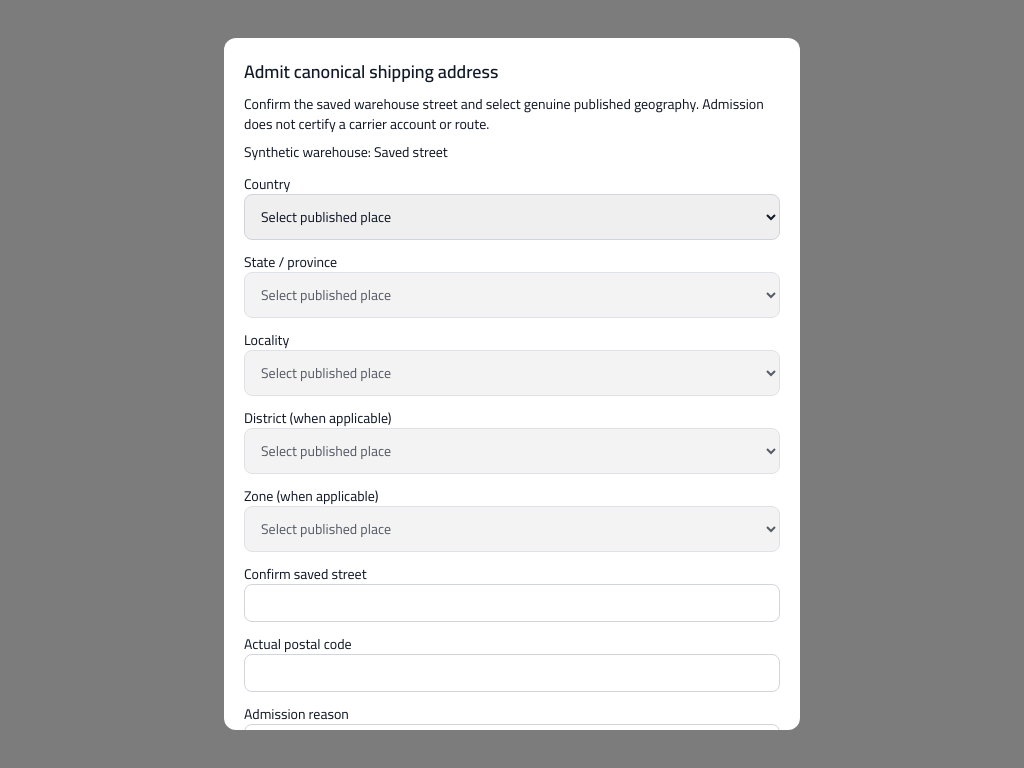
Test: submits genuine selected warehouse identities and preserves failed input in en
Select "US — United States" in the dropdown labelled "Country" at {"x": 512, "y": 217}, box top-left (244, 194), bottom-right (780, 240)
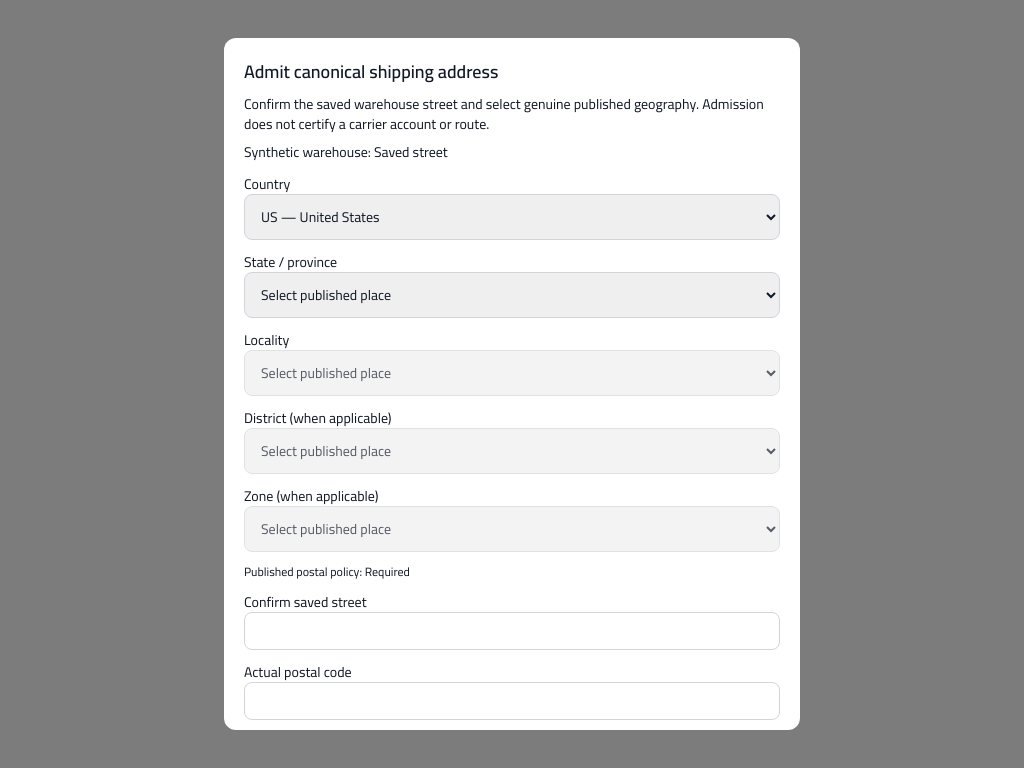
Select "NY — New York" in the dropdown labelled "State / province" at {"x": 512, "y": 295}, box top-left (244, 272), bottom-right (780, 318)
Select "NYC — New York City" in the dropdown labelled "Locality" at {"x": 512, "y": 373}, box top-left (244, 350), bottom-right (780, 396)
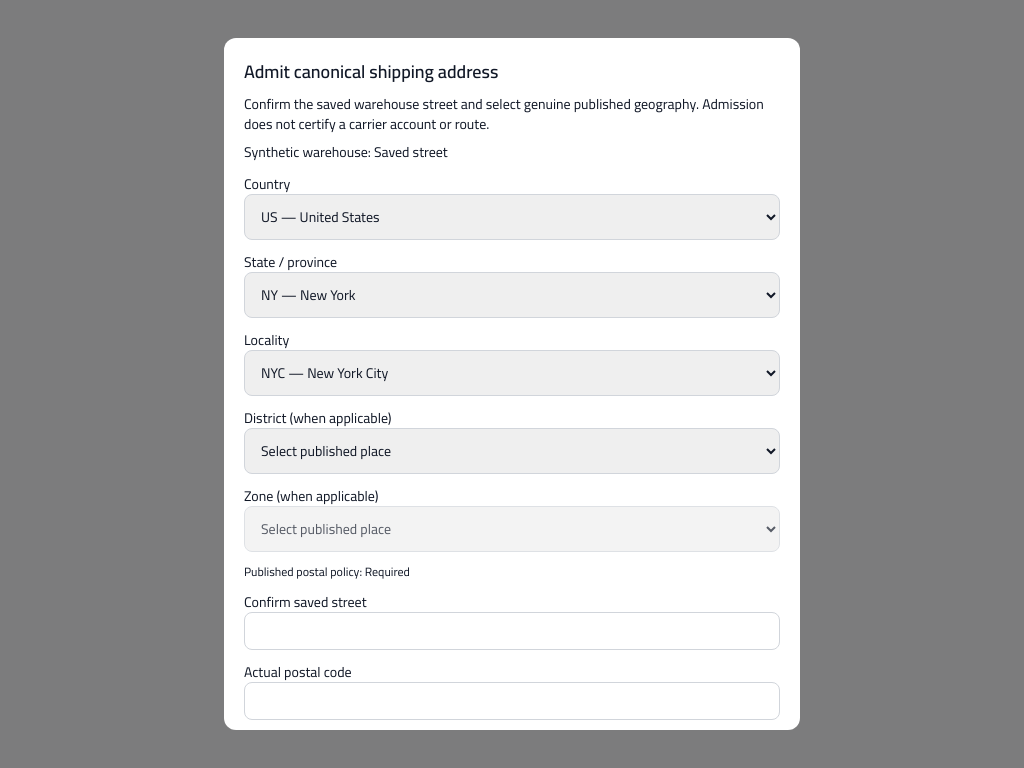
Type "Saved street" into the field labelled "Confirm saved street".
click(512, 631); type("Saved street")  # box top-left (244, 612), bottom-right (780, 650)
Type "10001" into the field labelled "Actual postal code".
click(512, 701); type("10001")  # box top-left (244, 682), bottom-right (780, 720)
(page scrolled)
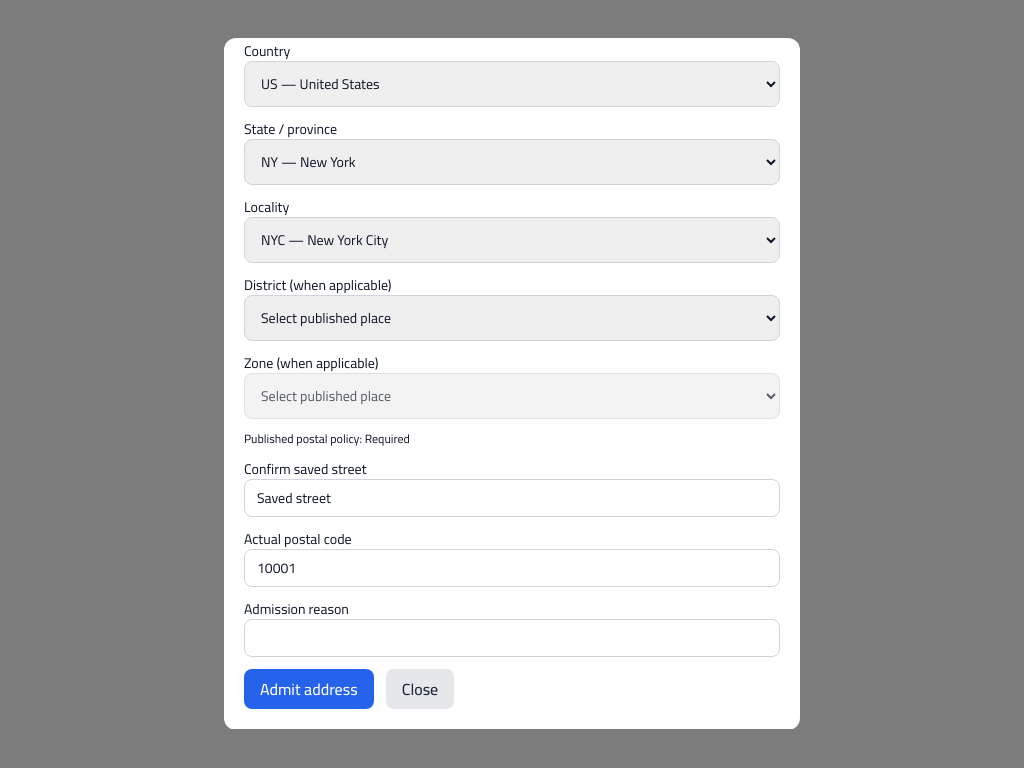
Type "Confirm genuine location" into the field labelled "Admission reason".
click(512, 638); type("Confirm genuine location")  # box top-left (244, 619), bottom-right (780, 657)
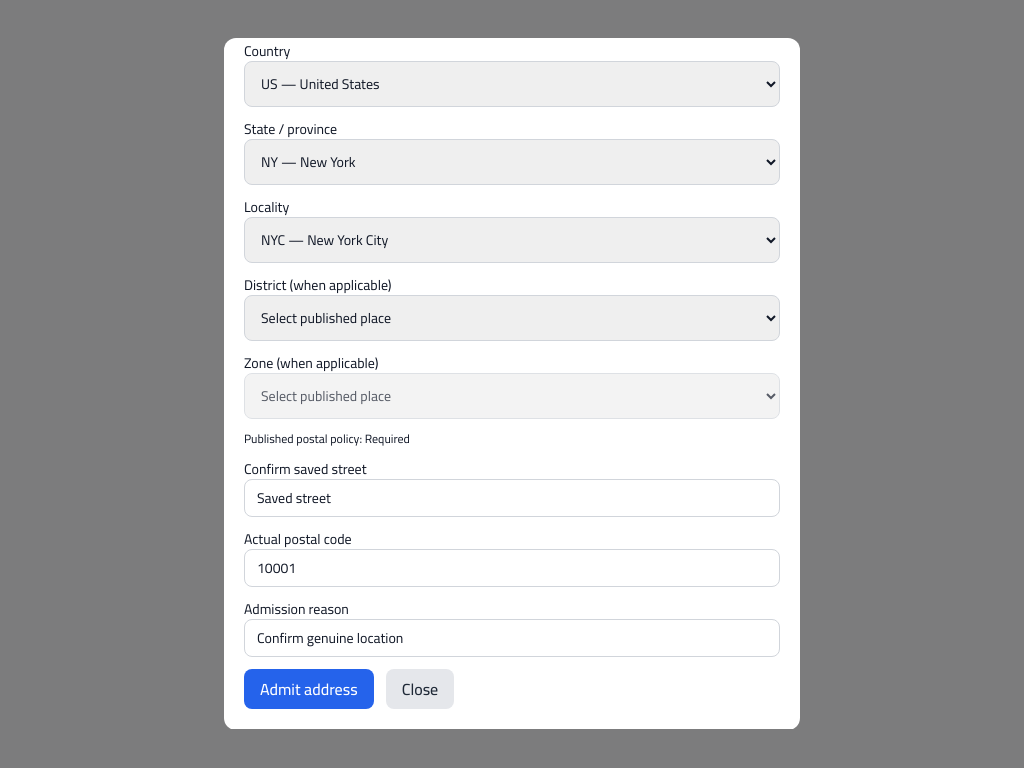
Click the button "Admit address".
click(309, 689)  # box top-left (244, 669), bottom-right (374, 709)
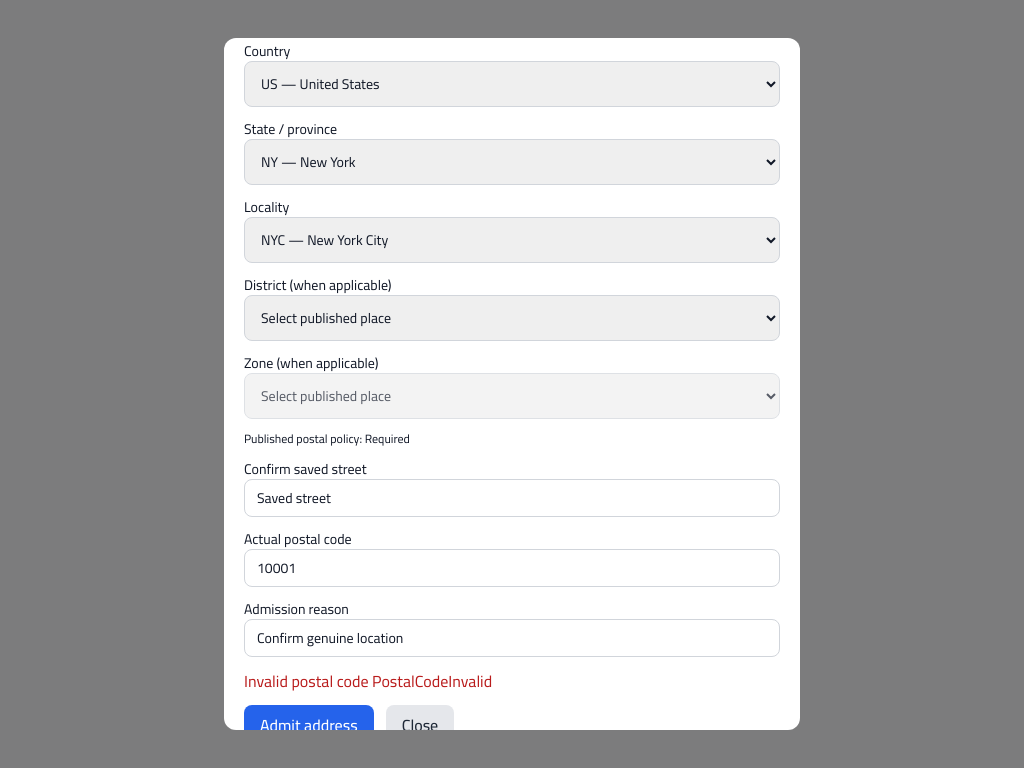
Expected: the message "Invalid postal code PostalCodeInvalid" is shown, top-left (244, 666), bottom-right (492, 696)
Click the button "Admit address".
click(309, 725)  # box top-left (244, 705), bottom-right (374, 745)
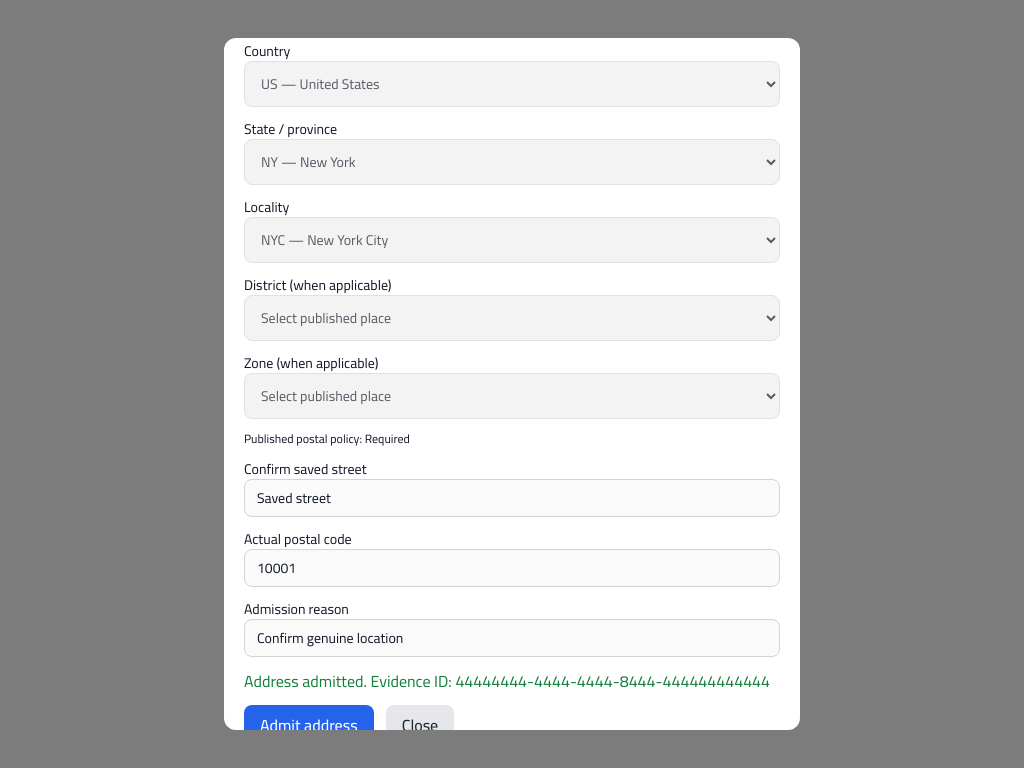
Expected: the button "Admit address" is disabled, top-left (244, 705), bottom-right (374, 730)
Expected: the text "44444444-4444-4444-8444-444444444444" is shown, top-left (455, 666), bottom-right (770, 696)
